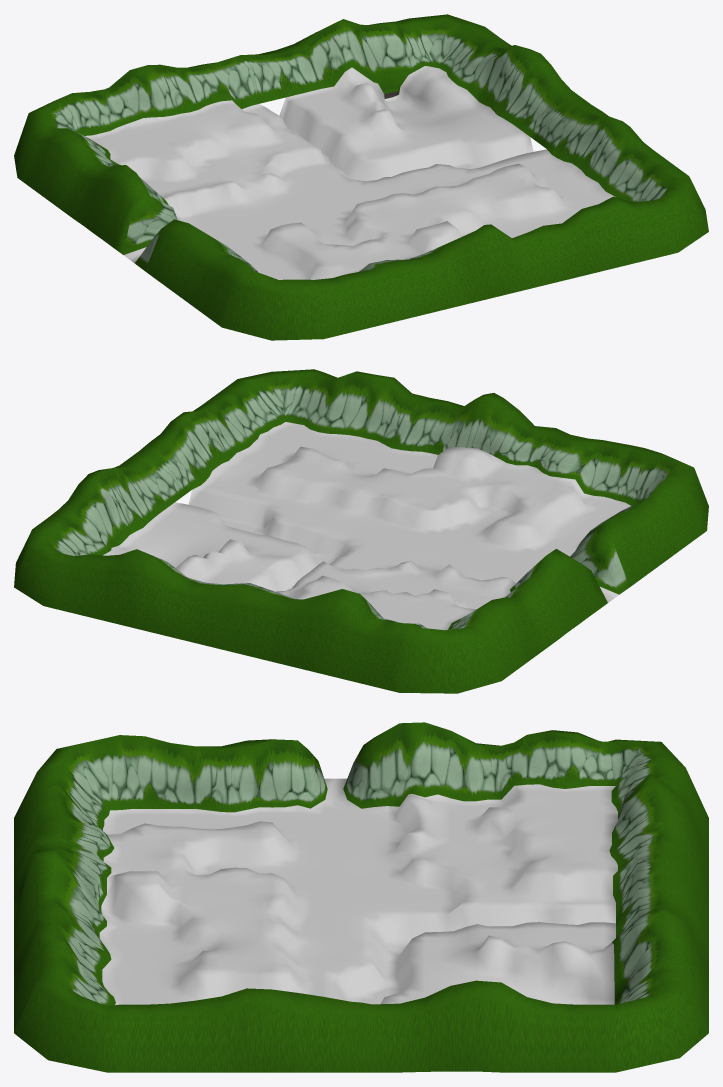
The model's file is SD_Field_01.fbx.
3 renders of one model, top to bottom at view 1: azimuth 30°, elevation 25°; view 2: azimuth 150°, elevation 25°; view 3: azimuth 270°, elevation 25°, orthographic. The views are drawn at different scales.
Parts seen in each view (by area): view 1: polySurface99; view 2: polySurface99; view 3: polySurface99.
Part boxes in pixels (x1,y1,x2,y2): polySurface99: (14, 14, 708, 340); polySurface99: (14, 369, 708, 693); polySurface99: (14, 722, 708, 1072).
Size of the model in its own units: 180 by 27.76 by 180.
